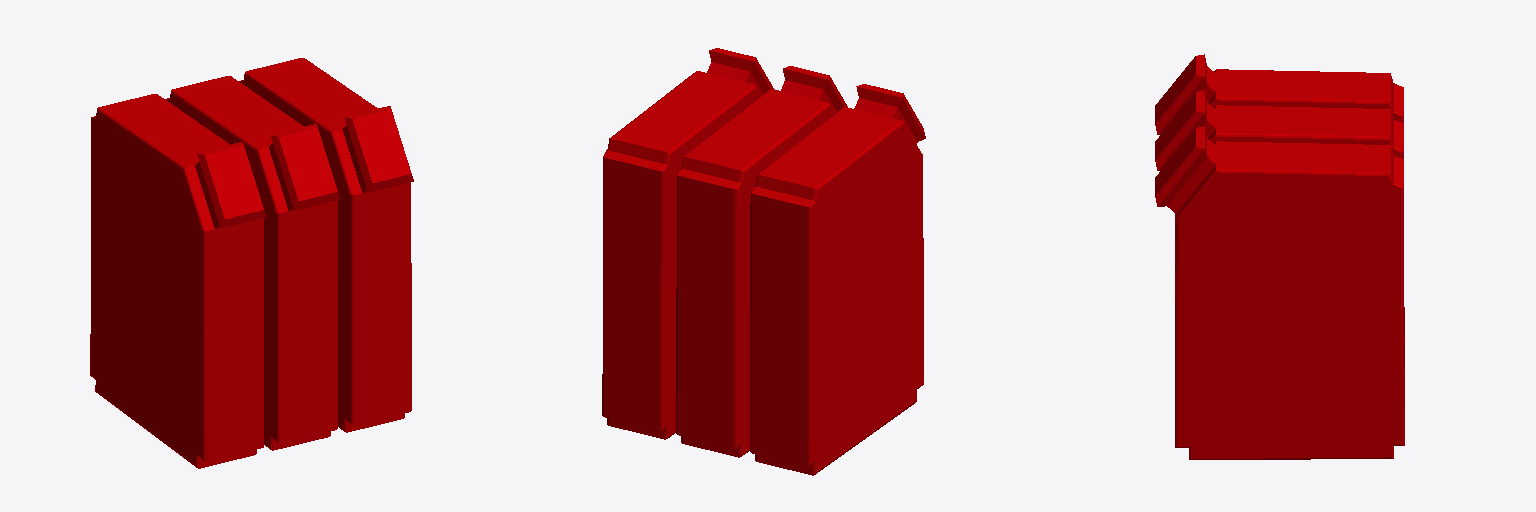
Rendered from tank.obj.
3 views of the same model, side by side, from view 1: azimuth 30°, elevation 25°; view 2: azimuth 150°, elevation 25°; view 3: azimuth 270°, elevation 25° (orthographic).
Visible parts, largest first — view 1: Cube; view 2: Cube; view 3: Cube.
Part boxes in pixels (x1,y1,x2,y2): Cube: (90,58,413,468); Cube: (602,48,925,475); Cube: (1155,54,1404,459).
Size of the model in its own units: 0.6943 by 0.9832 by 0.7184.